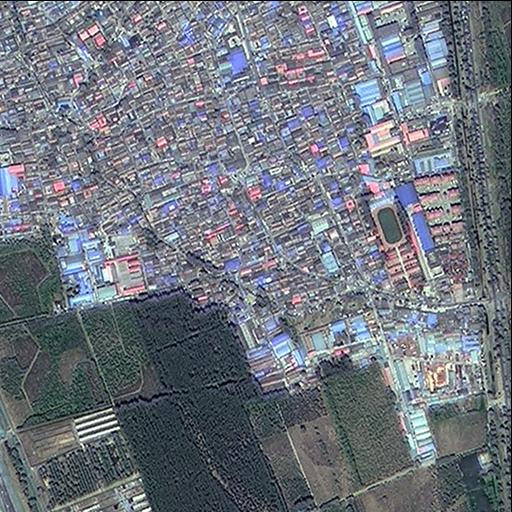school: (368, 191, 425, 294), (114, 252, 147, 297)
